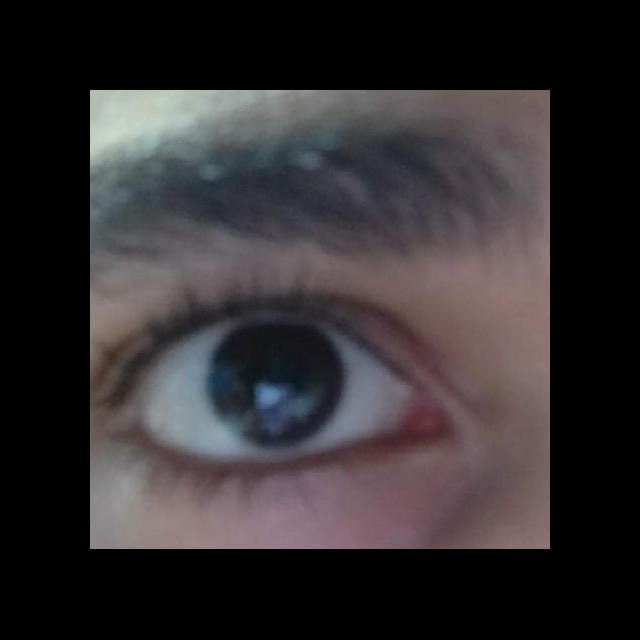eye: (133, 312, 413, 467)
iris: (207, 322, 345, 447)
